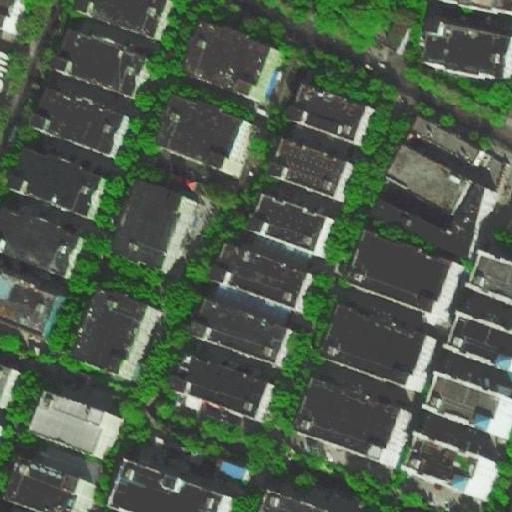building: (326, 303, 438, 392), (349, 229, 463, 316), (301, 376, 411, 464), (368, 182, 480, 264), (113, 175, 199, 271), (160, 91, 255, 172), (195, 296, 298, 367), (14, 151, 115, 223), (176, 352, 280, 421), (54, 30, 152, 103), (31, 86, 129, 158), (384, 140, 476, 216), (188, 20, 278, 97), (216, 246, 314, 315), (87, 288, 160, 377), (117, 456, 235, 511), (31, 393, 125, 461), (288, 79, 380, 146), (424, 374, 511, 443), (0, 204, 82, 277), (251, 194, 339, 261), (412, 114, 501, 180), (270, 138, 358, 203), (0, 460, 103, 512), (427, 17, 511, 80), (0, 267, 71, 337), (412, 423, 493, 479), (449, 305, 512, 368), (268, 477, 363, 511), (468, 254, 512, 306), (460, 181, 497, 228), (381, 15, 413, 57), (140, 441, 181, 466), (219, 461, 249, 482), (186, 460, 205, 476)
